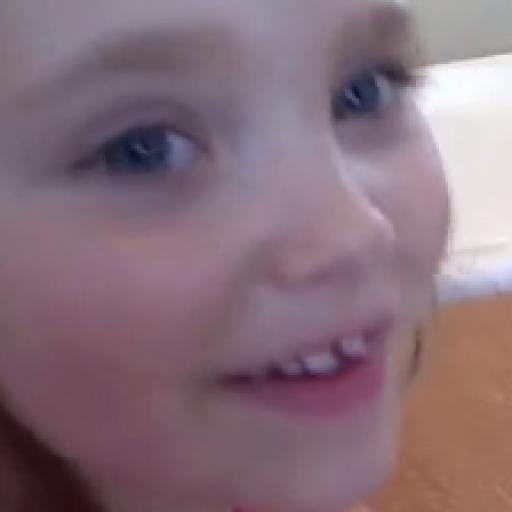Autism: (14, 0, 464, 512)
